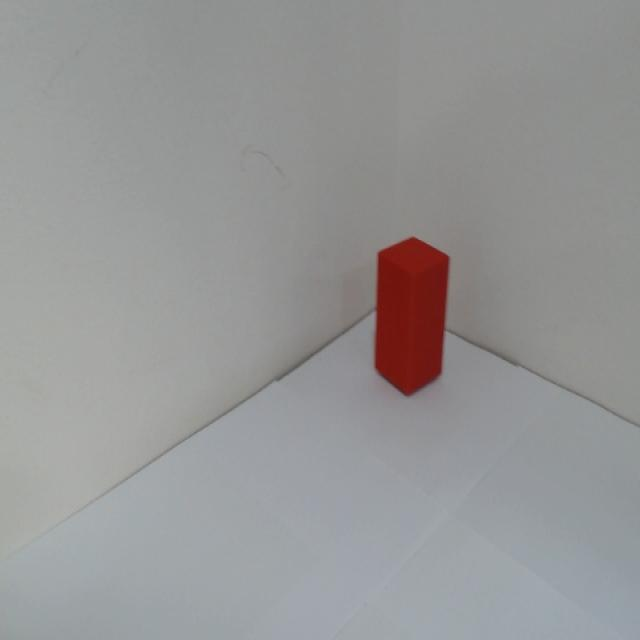cube: (370, 233, 453, 401)
